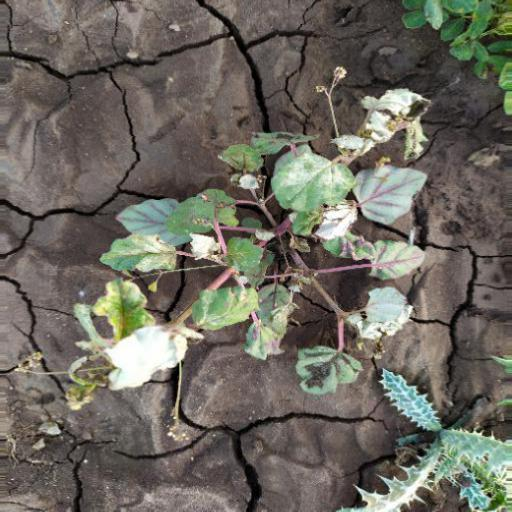weed: (65, 62, 448, 393), (341, 367, 512, 512)
